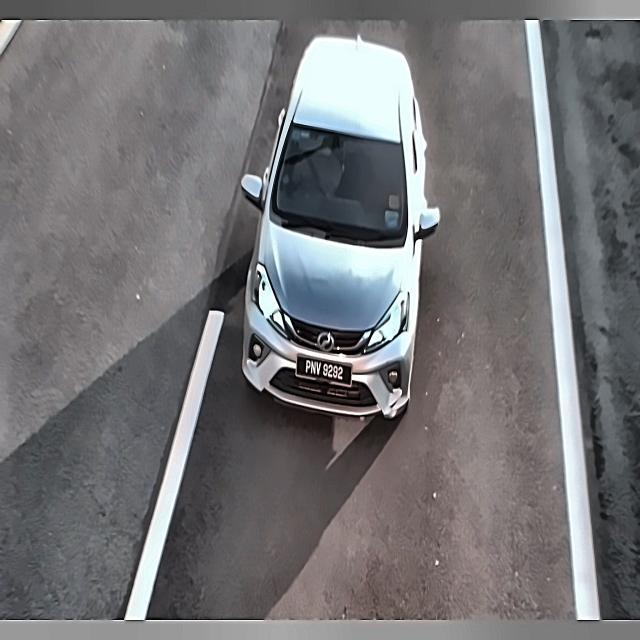car: (294, 350, 354, 390)
